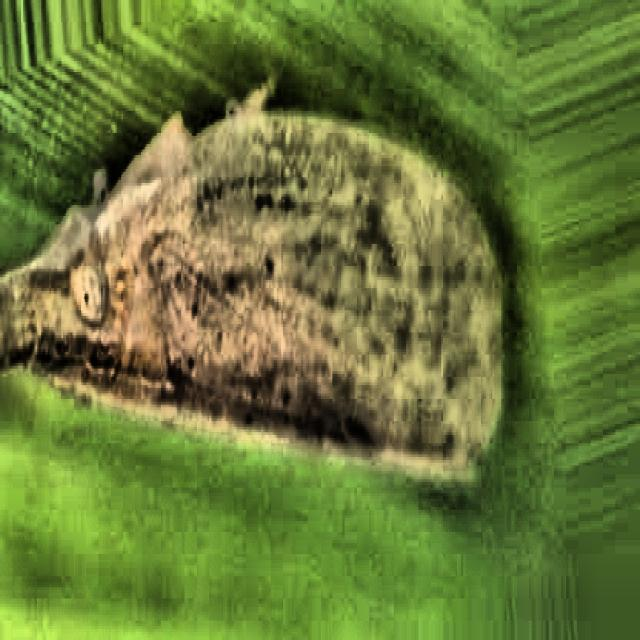Pyrilla-perpusilla: (0, 80, 509, 510)
